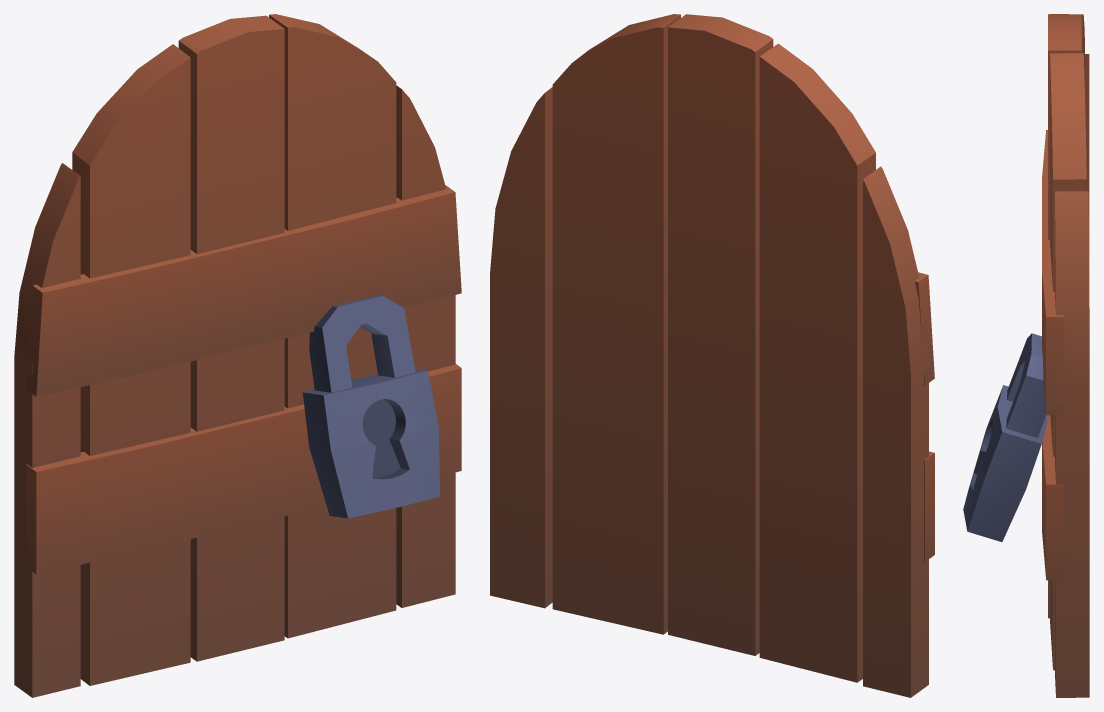
Rendered from Locked Door.fbx.
The picture shows the model from 3 angles, left to right: view 1: azimuth 30°, elevation 25°; view 2: azimuth 150°, elevation 25°; view 3: azimuth 270°, elevation 25°; orthographic projection. The views are drawn at different scales.
Visible parts, largest first — view 1: LockedDoor; view 2: LockedDoor; view 3: LockedDoor.
Boxes of the visible parts, bbox=[...] form: LockedDoor: bbox=[14, 14, 461, 697]; LockedDoor: bbox=[490, 14, 934, 697]; LockedDoor: bbox=[963, 14, 1089, 697].
Size of the model in its own units: 90.27 by 125 by 25.03.
